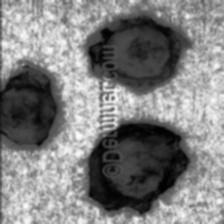Toxin: (80, 99, 180, 208), (0, 67, 57, 143)
